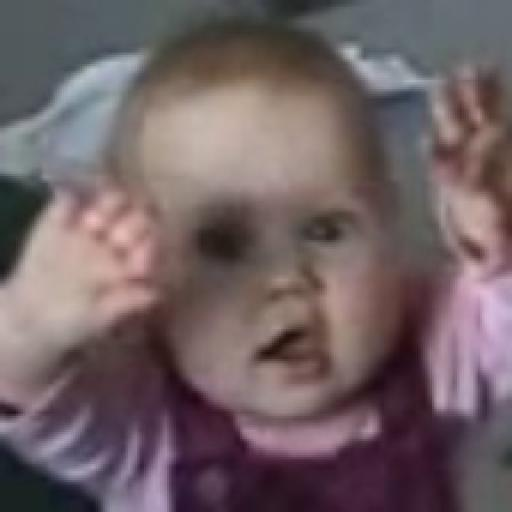Autism: (110, 25, 409, 512)
